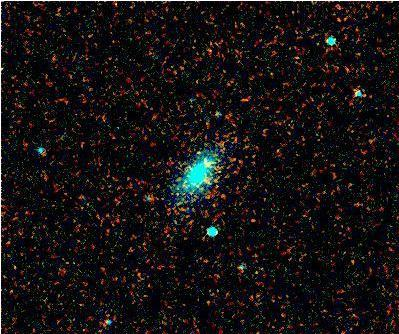star: (205, 179, 235, 209)
